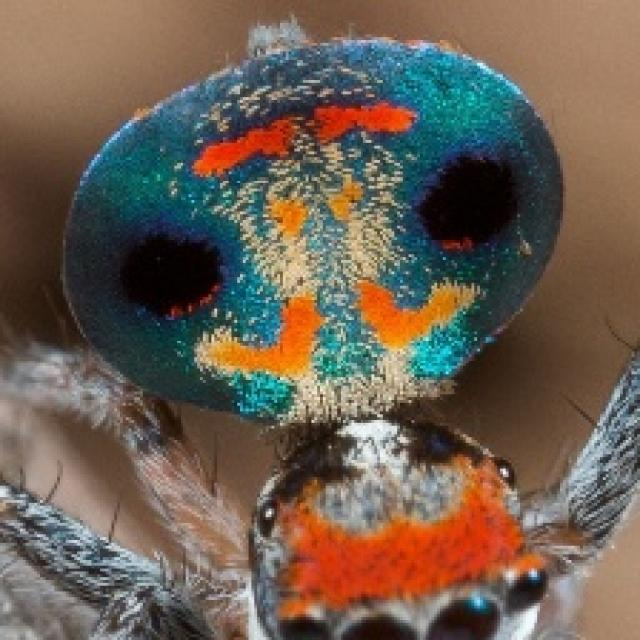Non venomous spider: (52, 12, 600, 636)
